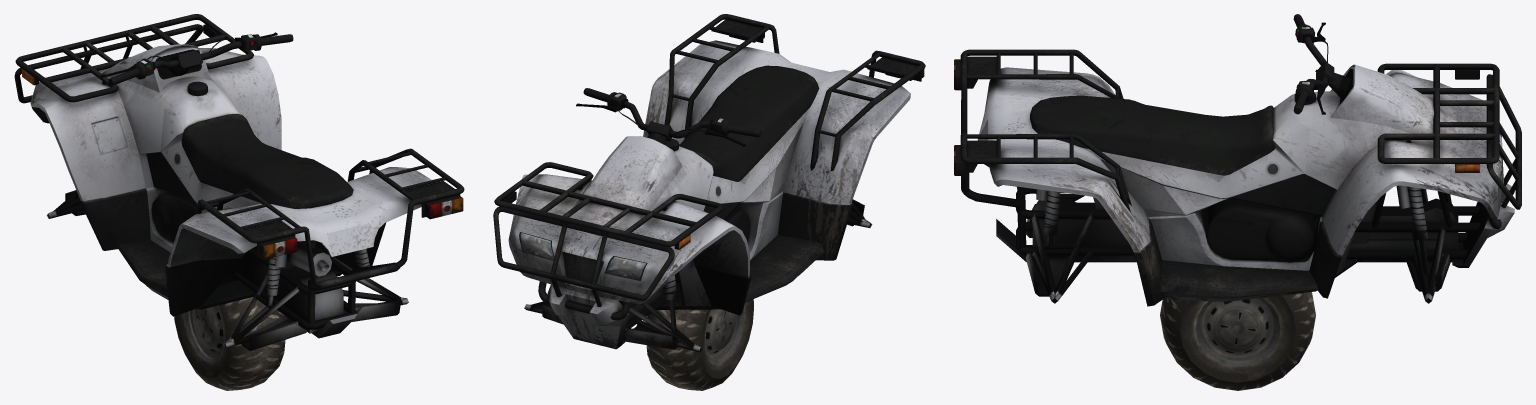
The model's file is quadBike.glb.
3 renders of one model, left to right at view 1: azimuth 30°, elevation 25°; view 2: azimuth 150°, elevation 25°; view 3: azimuth 270°, elevation 25°, orthographic. The views are drawn at different scales.
Parts seen in each view (by area): view 1: quad, quadWheel; view 2: quad, quadWheel; view 3: quad, quadWheel.
Part boxes in pixels (x1,y1,x2,y2): quad: (14, 14, 464, 350); quadWheel: (174, 297, 285, 390); quad: (493, 14, 925, 352); quadWheel: (646, 299, 753, 390); quad: (954, 14, 1521, 306); quadWheel: (1160, 292, 1315, 390).
Bounding box in the file's own units: 1.01 × 1.32 × 2.05.
Materials: 2 (2 with a texture image).
